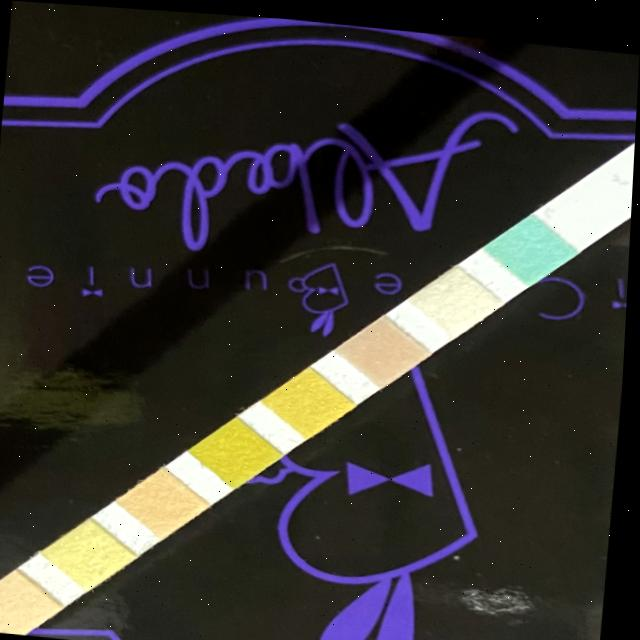Bilirubin: (425, 277, 488, 311)
Blood: (207, 431, 269, 464)
Glucose: (499, 225, 561, 258)
Ketone: (354, 328, 416, 361)
Protein: (62, 536, 124, 569)
SpGravity: (278, 381, 340, 415)
Urobilinogen: (0, 587, 52, 620)
pH: (135, 483, 197, 516)
